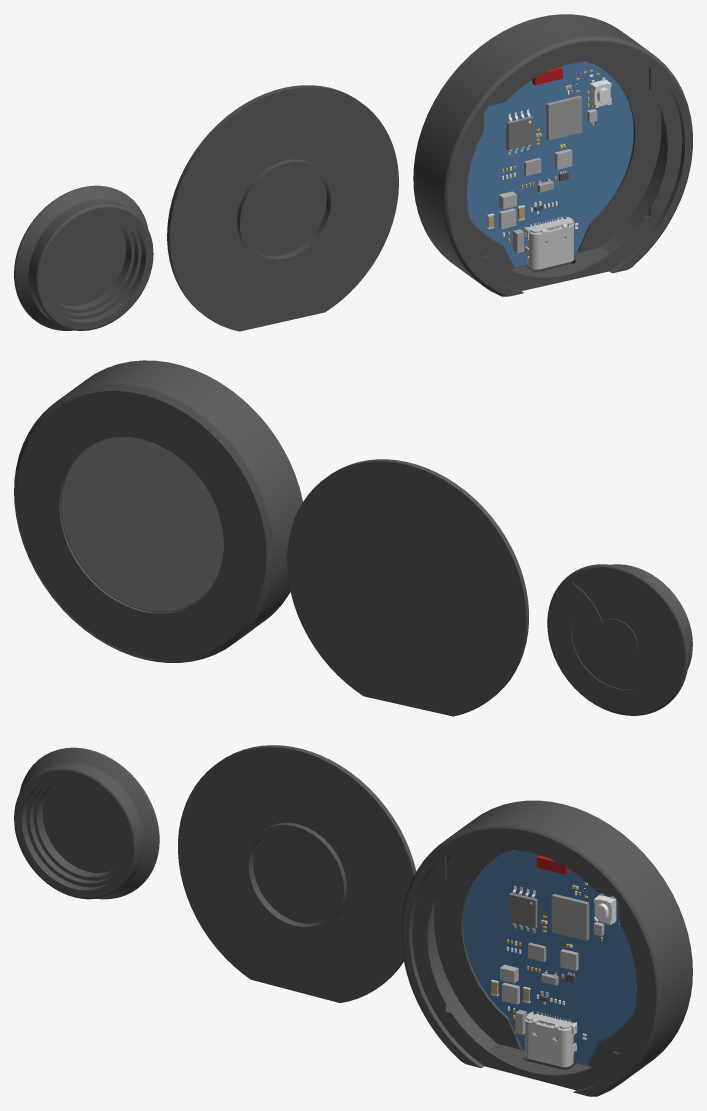
The model's file is qpin2.glb.
The picture shows the model from 3 angles, top to bottom: view 1: azimuth 30°, elevation 25°; view 2: azimuth 150°, elevation 25°; view 3: azimuth 330°, elevation 25°; orthographic projection. The views are drawn at different scales.
Visible parts, largest first — view 1: Body1.203, mainCase.001, Body1.001, Body8, Body1.044, Body1.200, Body1.158, Body1.202; view 2: Body1.203, mainCase.001, Body1, Body8; view 3: Body1.203, mainCase.001, Body1.001, Body8, Body1.044, Body1.200, Body1.158, Body1.202.
Boxes of the visible parts, x1=… form: Body1.203: x1=167, y1=85, x2=398, y2=331; mainCase.001: x1=413, y1=14, x2=692, y2=296; Body1.001: x1=466, y1=61, x2=633, y2=267; Body8: x1=14, y1=185, x2=153, y2=330; Body1.044: x1=524, y1=216, x2=573, y2=269; Body1.200: x1=546, y1=95, x2=582, y2=140; Body1.158: x1=506, y1=116, x2=533, y2=150; Body1.202: x1=590, y1=77, x2=611, y2=108; Body1.203: x1=287, y1=459, x2=528, y2=716; mainCase.001: x1=14, y1=360, x2=302, y2=662; Body1: x1=60, y1=436, x2=223, y2=612; Body8: x1=547, y1=564, x2=692, y2=715; Body1.203: x1=178, y1=745, x2=416, y2=1002; mainCase.001: x1=401, y1=800, x2=692, y2=1096; Body1.001: x1=463, y1=850, x2=637, y2=1064; Body8: x1=14, y1=747, x2=159, y2=899; Body1.044: x1=525, y1=1011, x2=577, y2=1067; Body1.200: x1=551, y1=894, x2=589, y2=940; Body1.158: x1=509, y1=892, x2=537, y2=928; Body1.202: x1=594, y1=893, x2=616, y2=924.
Bounding box in the file's own units: 0.1351 × 0.052 × 0.0125.
